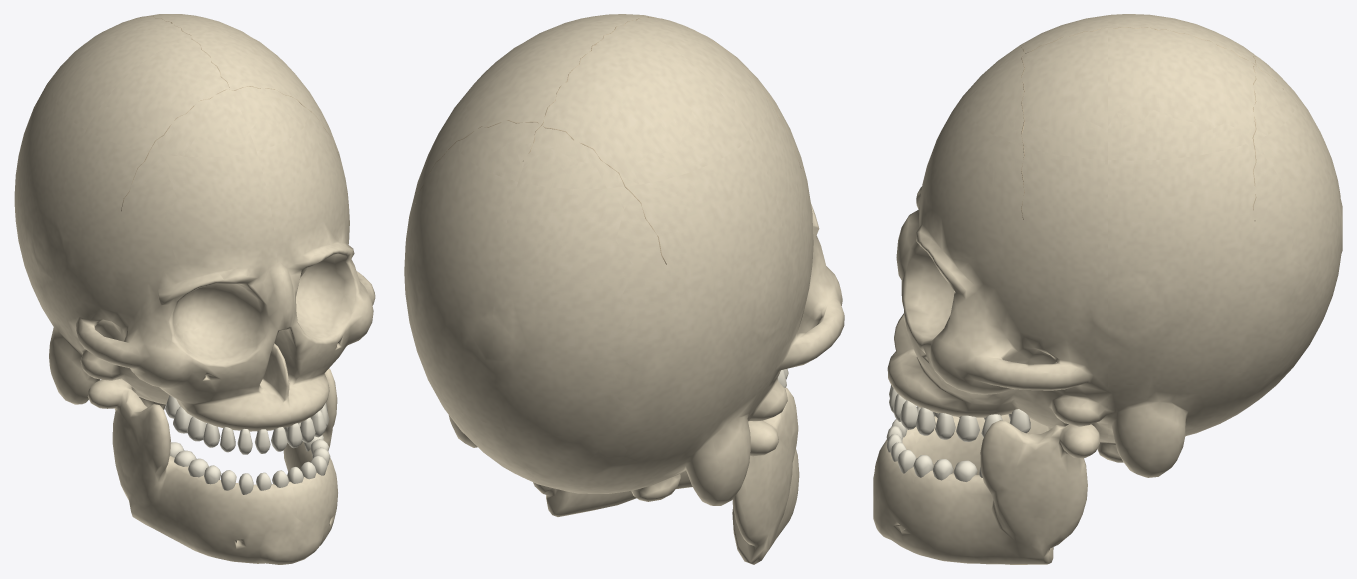
File: detailed-skull-with-articulated-jaw.glb
3 renders of one model, left to right at view 1: azimuth 30°, elevation 25°; view 2: azimuth 150°, elevation 25°; view 3: azimuth 270°, elevation 25°, orthographic. The views are drawn at different scales.
Visible parts, largest first — view 1: Hollow neurocranium and facial bones, Mandible with paired rami and condyles; view 2: Hollow neurocranium and facial bones, Mandible with paired rami and condyles; view 3: Hollow neurocranium and facial bones, Mandible with paired rami and condyles.
Part boxes in pixels (x1,y1,x2,y2): Hollow neurocranium and facial bones: [14, 14, 375, 431]; Mandible with paired rami and condyles: [87, 368, 337, 564]; Hollow neurocranium and facial bones: [404, 14, 844, 505]; Mandible with paired rami and condyles: [533, 387, 799, 564]; Hollow neurocranium and facial bones: [887, 14, 1342, 477]; Mandible with paired rami and condyles: [873, 414, 1099, 564].
Bounding box in the file's own units: 0.1495 × 0.2346 × 0.1973.
3 materials, 3 textured.
